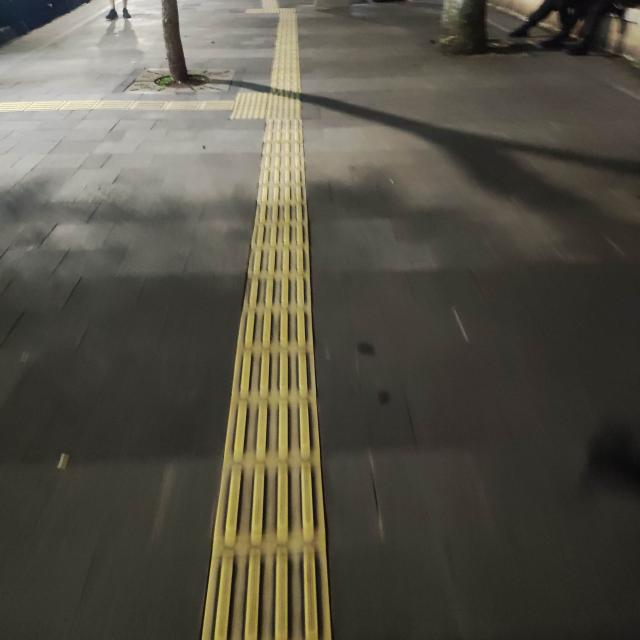lurus: (227, 131, 331, 640), (260, 22, 304, 92)
